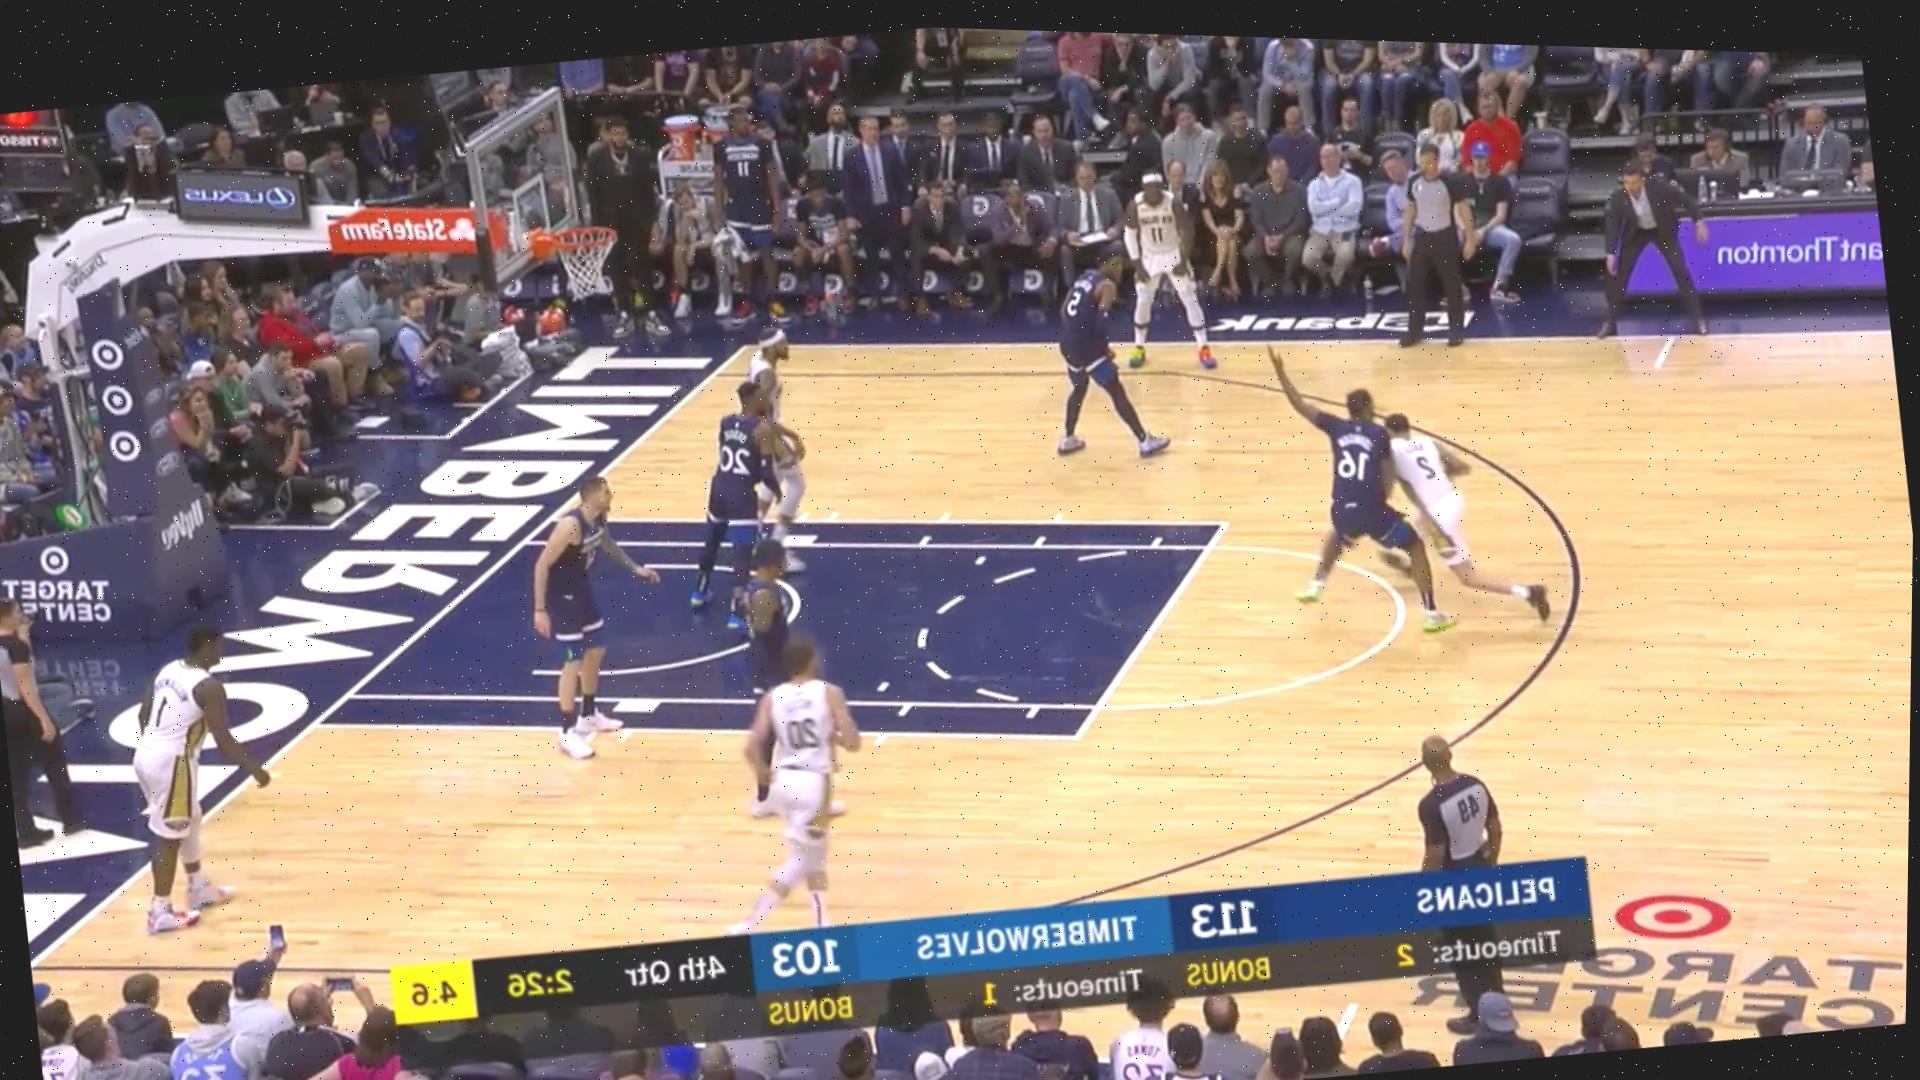no_foul: (1287, 368, 1494, 629)
